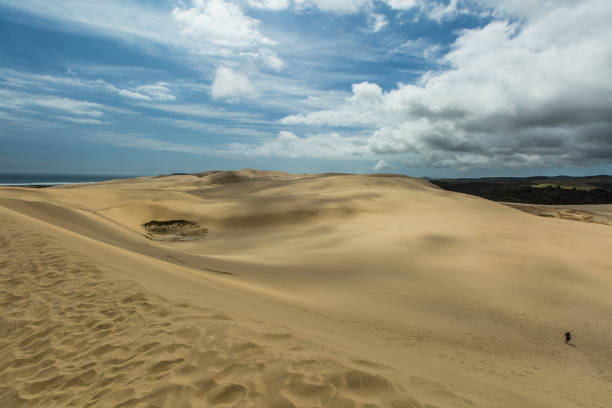human_footprint: (7, 229, 397, 404)
